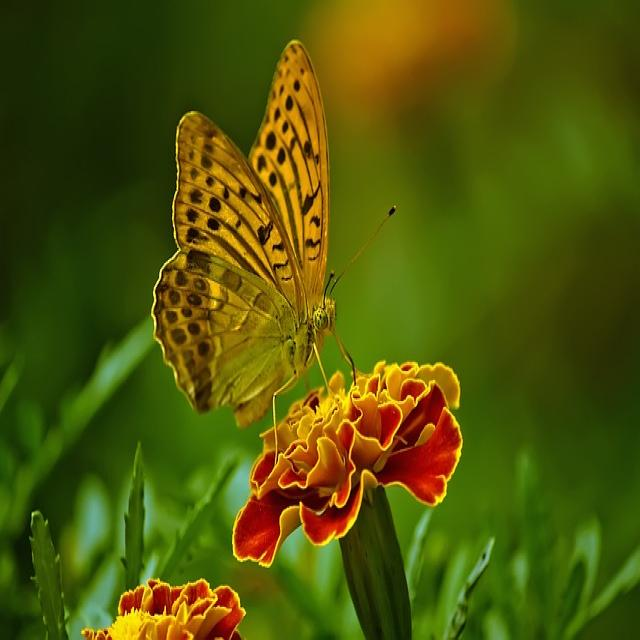butterfly: (154, 41, 335, 425)
